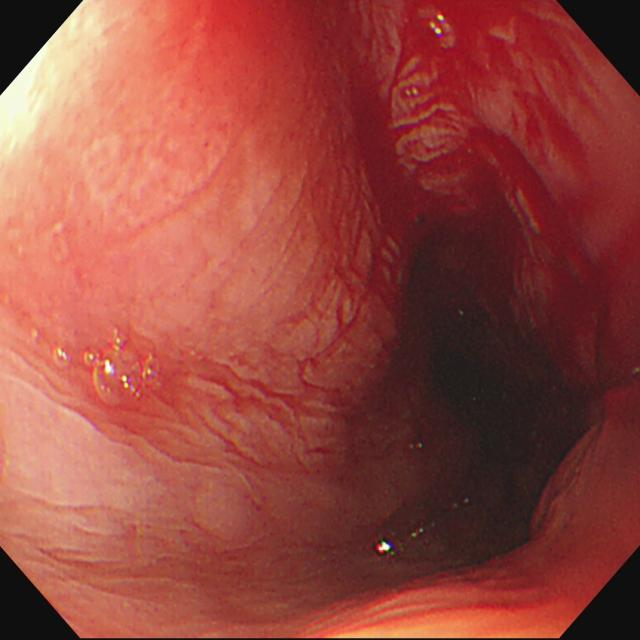C: (309, 2, 584, 238)
E: (428, 332, 552, 549)
T: (84, 325, 162, 409)
U: (377, 538, 396, 562), (431, 12, 446, 38), (106, 360, 117, 377)
